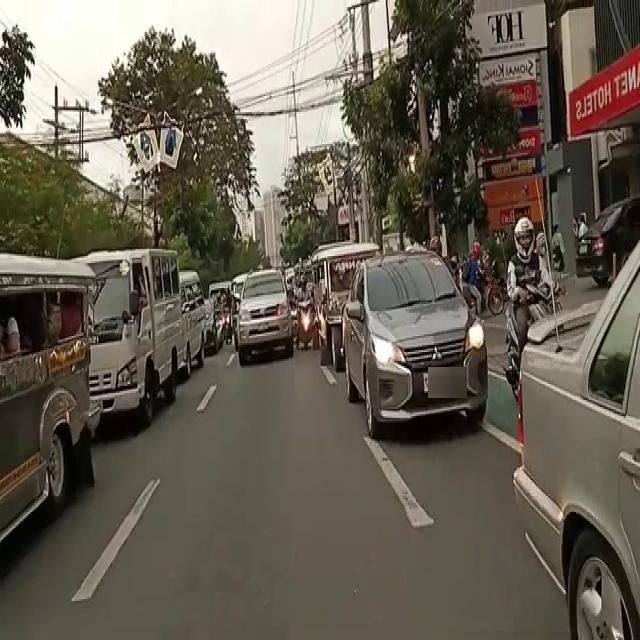car: (550, 270, 640, 622), (347, 254, 482, 438), (92, 252, 176, 428), (241, 270, 290, 372)
jeepney: (0, 268, 90, 546), (317, 244, 367, 374)
motorcycle: (495, 231, 547, 414), (298, 277, 314, 354)
